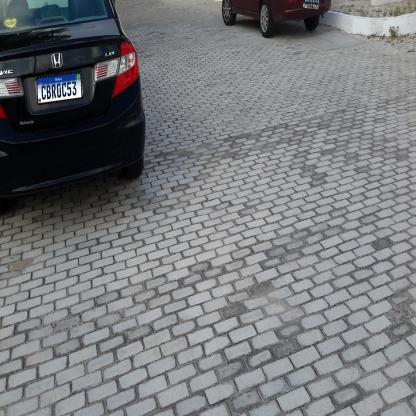PlacaM: (36, 71, 82, 105), (303, 2, 319, 9)
